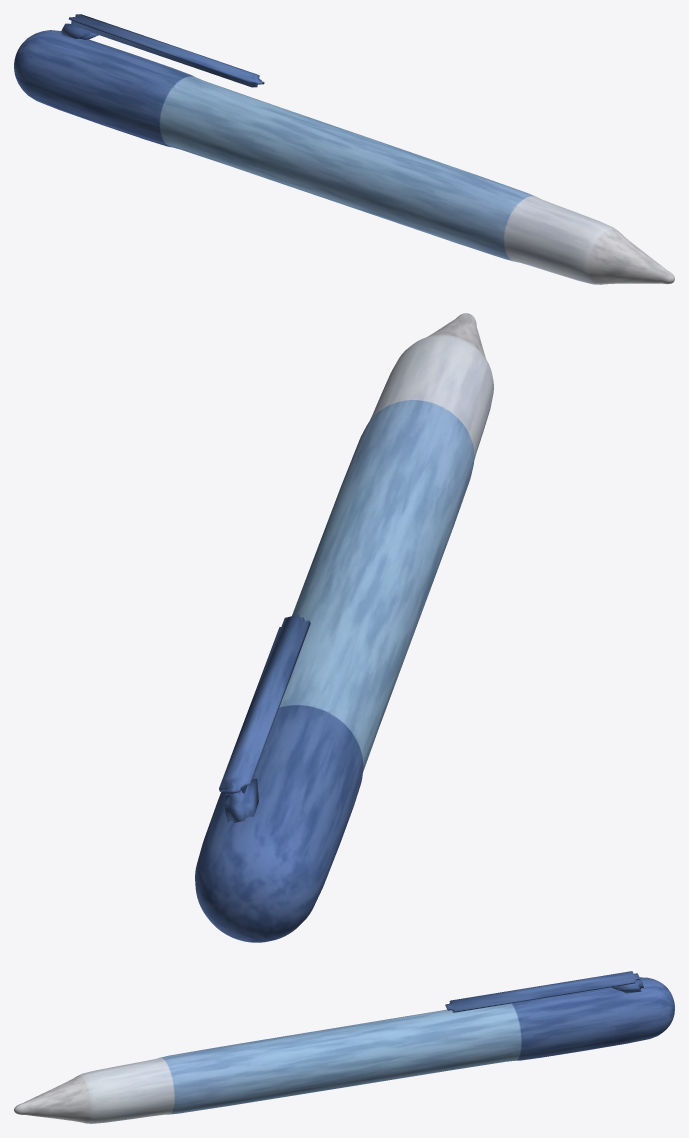
File: lapicero.glb
The picture shows the model from 3 angles, top to bottom: view 1: azimuth 30°, elevation 25°; view 2: azimuth 150°, elevation 25°; view 3: azimuth 270°, elevation 25°; orthographic projection. The views are drawn at different scales.
Parts seen in each view (by area): view 1: Lapicero, Lapicero_Clip; view 2: Lapicero, Lapicero_Clip; view 3: Lapicero, Lapicero_Clip.
Boxes of the visible parts, x1=… form: Lapicero: x1=14, y1=30, x2=674, y2=284; Lapicero_Clip: x1=60, y1=14, x2=264, y2=87; Lapicero: x1=195, y1=313, x2=493, y2=942; Lapicero_Clip: x1=219, y1=614, x2=310, y2=823; Lapicero: x1=14, y1=977, x2=674, y2=1123; Lapicero_Clip: x1=445, y1=971, x2=643, y2=1012.
Size of the model in its own units: 0.5822 by 0.1728 by 1.4.
Materials: 2 (2 with a texture image).
